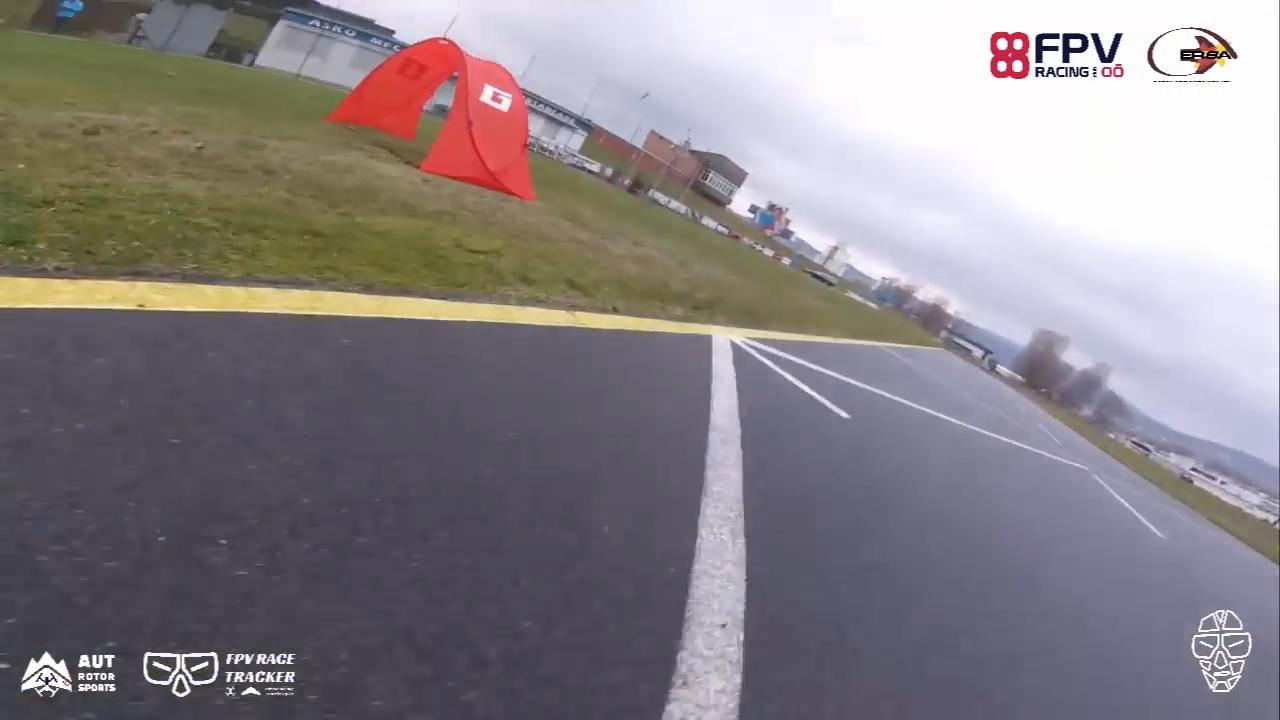gate: (327, 36, 539, 207)
